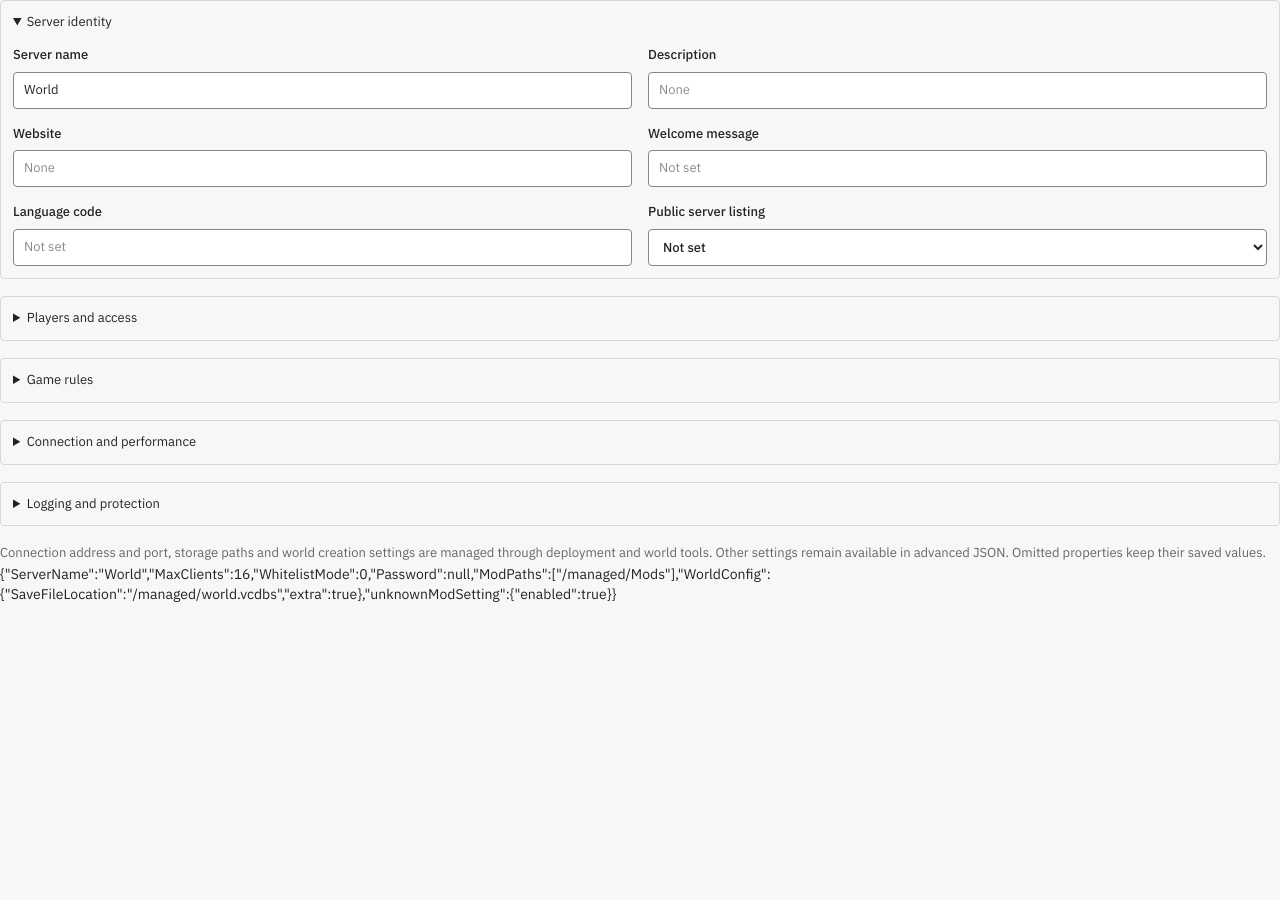
Test: keeps a cleared numeric field invalid instead of silently deleting it from a merge update
Click the heading "Players and access": click(82, 318) [27, 309, 137, 326]
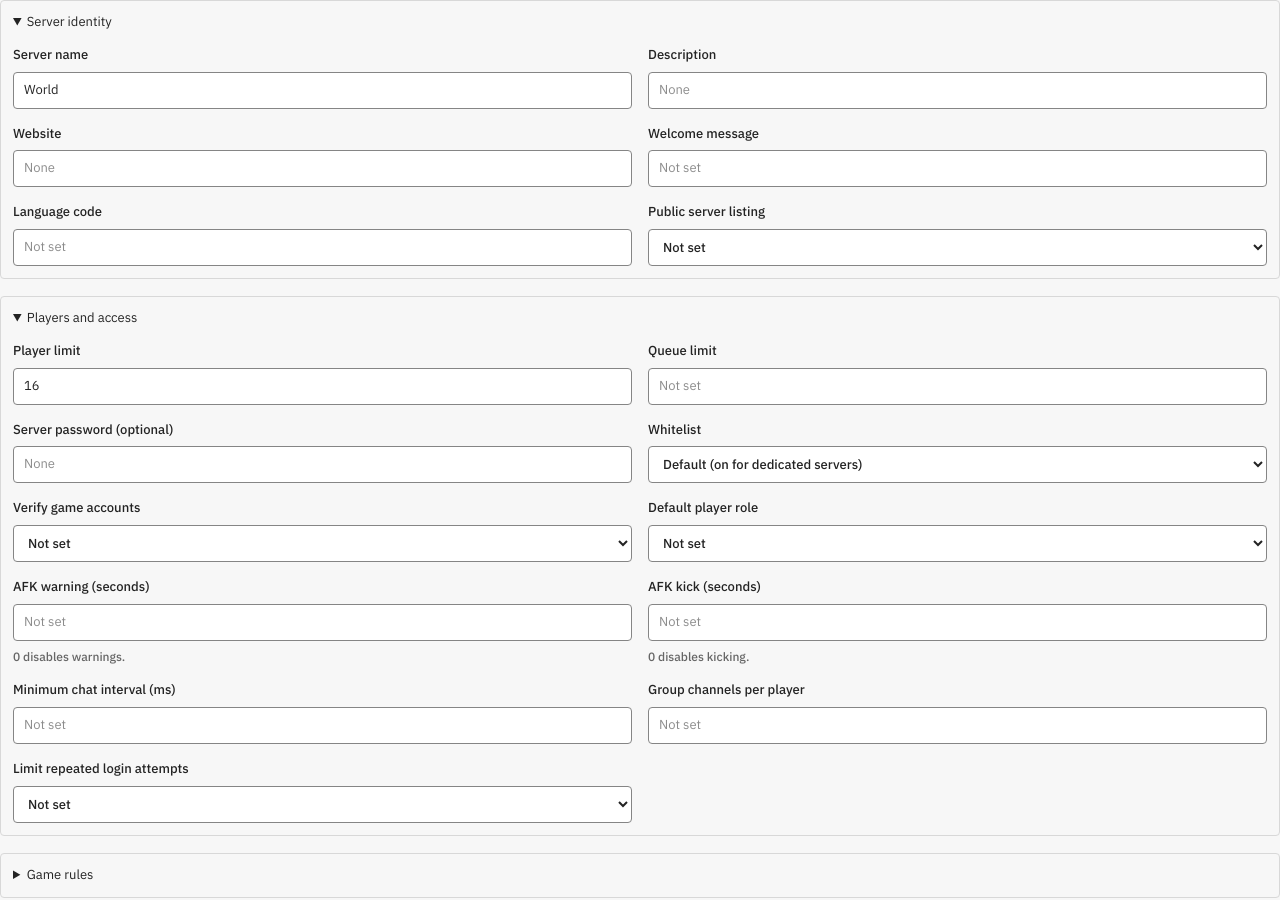
Clear the number field labelled "Player limit": (322, 386) [13, 368, 632, 405]
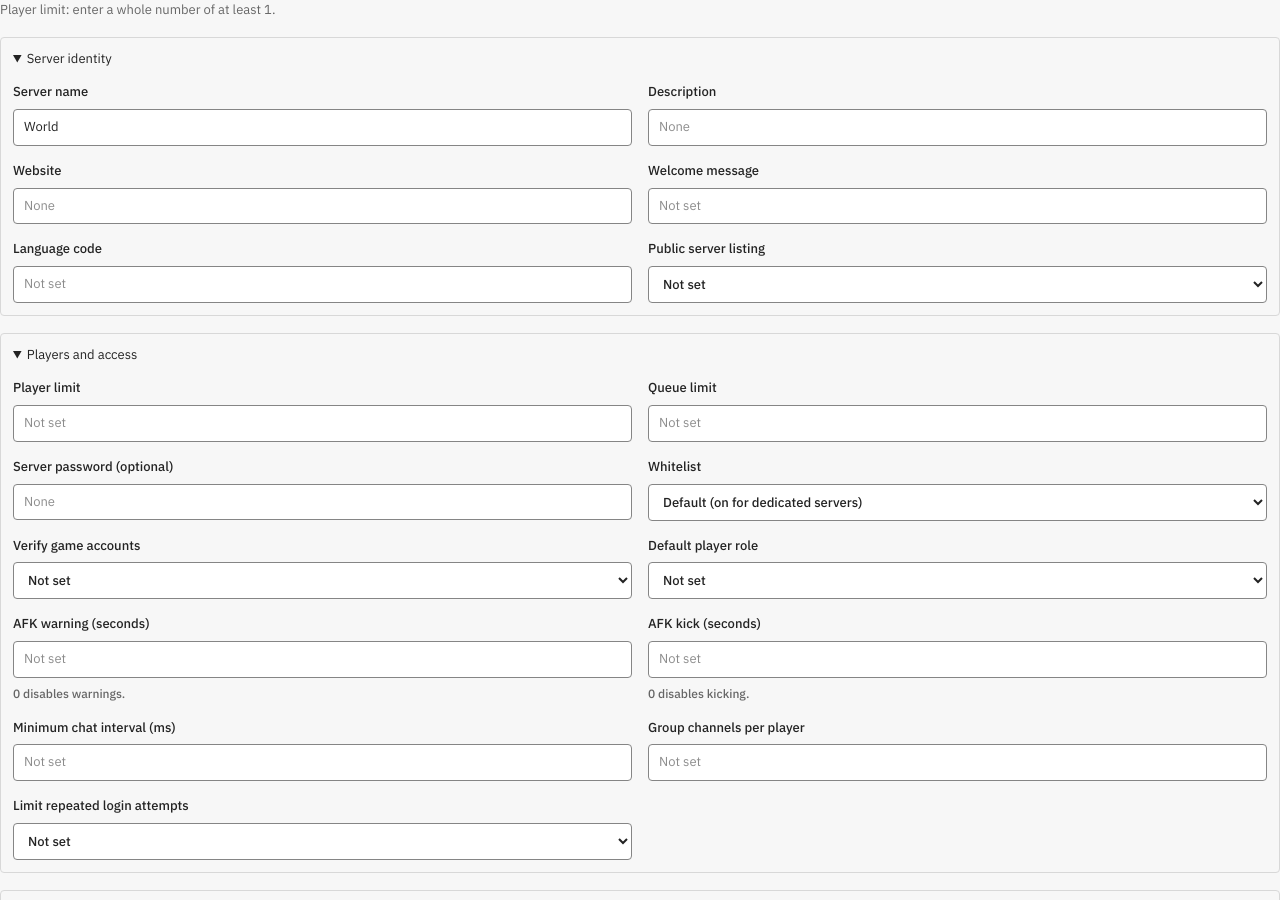
Expected: the message "Player limit: enter a whole number of at least 1." is shown, [0, 1, 275, 18]
